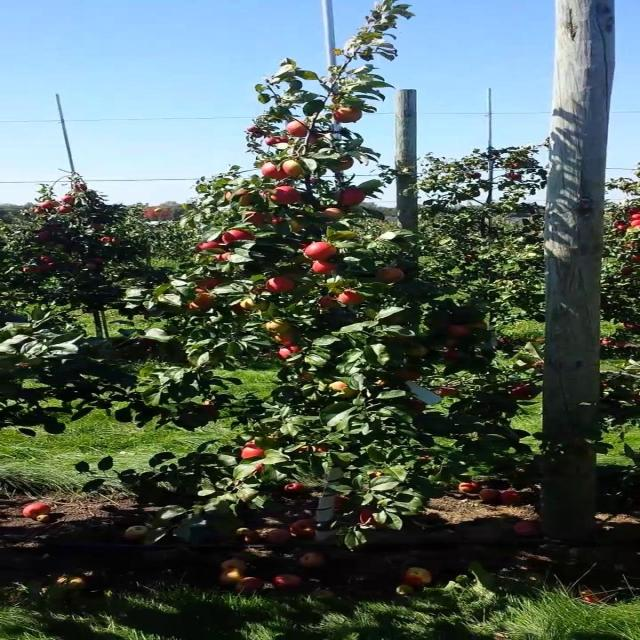apple: (304, 241, 338, 261), (358, 506, 387, 528), (269, 185, 302, 204), (338, 188, 367, 206), (260, 161, 289, 179), (264, 276, 296, 292), (222, 229, 256, 244), (329, 381, 358, 398), (224, 188, 251, 206), (376, 266, 404, 283), (333, 106, 362, 122), (332, 382, 359, 398), (284, 120, 309, 137), (282, 159, 304, 178), (338, 290, 364, 305), (311, 260, 338, 274), (264, 320, 291, 334), (508, 383, 534, 397), (244, 211, 267, 226), (278, 345, 302, 359), (320, 206, 343, 220), (447, 325, 471, 338), (240, 446, 264, 459), (240, 299, 268, 310), (200, 401, 219, 417), (333, 156, 353, 171), (192, 292, 213, 306), (332, 493, 348, 511), (393, 370, 420, 380), (406, 345, 428, 357), (198, 278, 222, 289), (436, 386, 460, 397), (318, 296, 338, 309), (442, 349, 462, 362), (273, 332, 293, 345), (382, 336, 412, 344), (196, 241, 220, 251), (289, 219, 307, 232), (380, 314, 402, 324), (214, 250, 232, 262), (410, 398, 425, 412), (187, 300, 206, 310), (442, 337, 458, 348), (312, 443, 329, 452), (243, 440, 261, 448), (250, 286, 268, 294), (367, 469, 383, 478), (308, 134, 322, 144), (251, 462, 265, 472), (267, 215, 281, 225), (298, 372, 313, 381), (471, 320, 486, 328), (277, 135, 290, 143), (264, 137, 276, 145), (306, 176, 317, 184)
